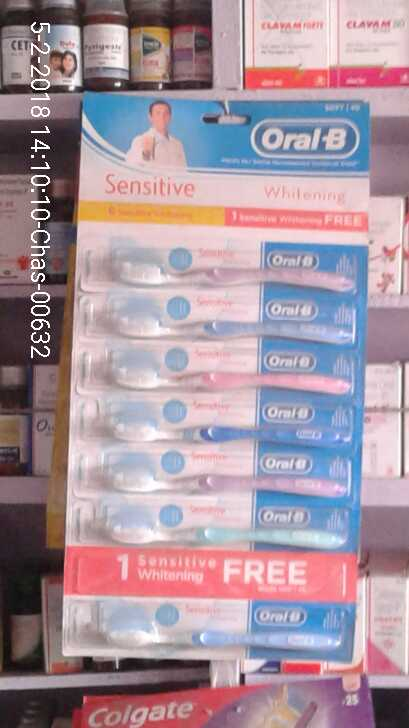oralb: (81, 596, 352, 657), (93, 497, 355, 558), (101, 400, 346, 453), (116, 245, 364, 297), (93, 345, 350, 395), (106, 298, 359, 344), (87, 458, 351, 499)
